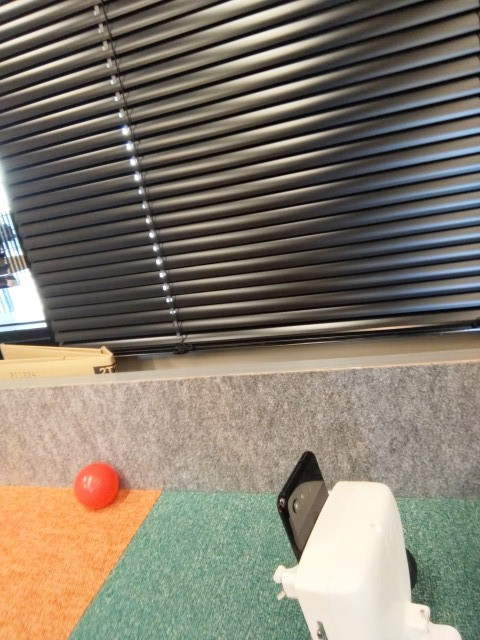bl: (243, 443, 467, 640)
